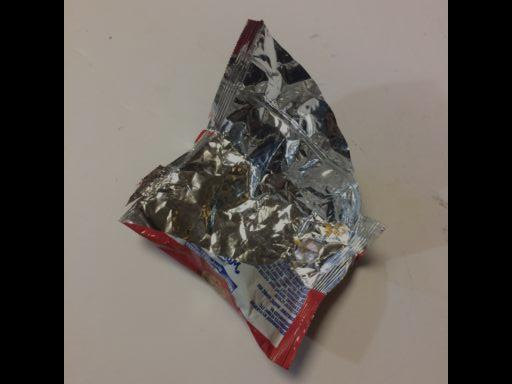trash: (117, 16, 390, 375)
